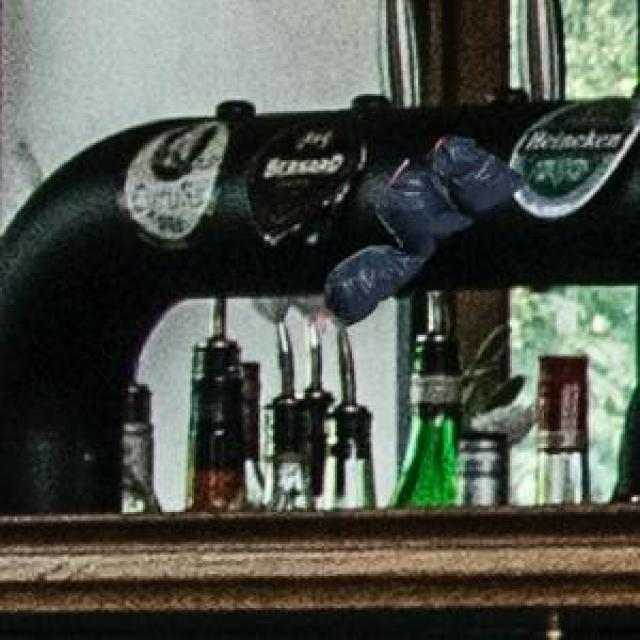miscellaneous trash: (322, 132, 527, 322)
